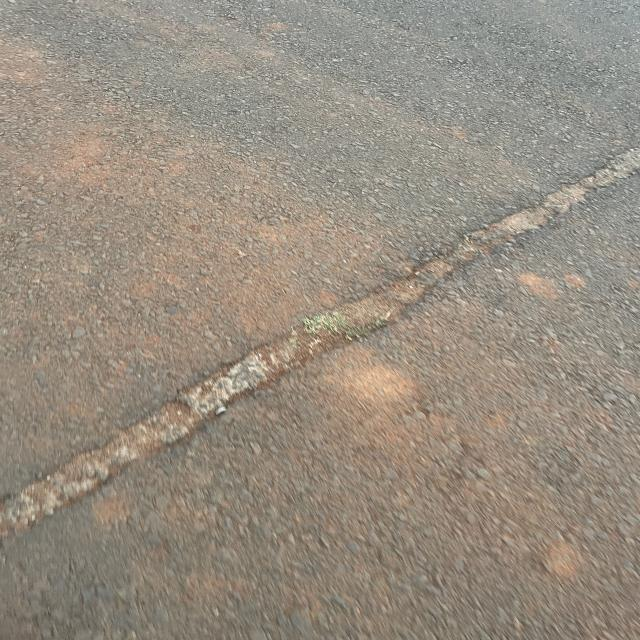D11: (13, 116, 627, 567)
D43: (419, 440, 640, 640)
